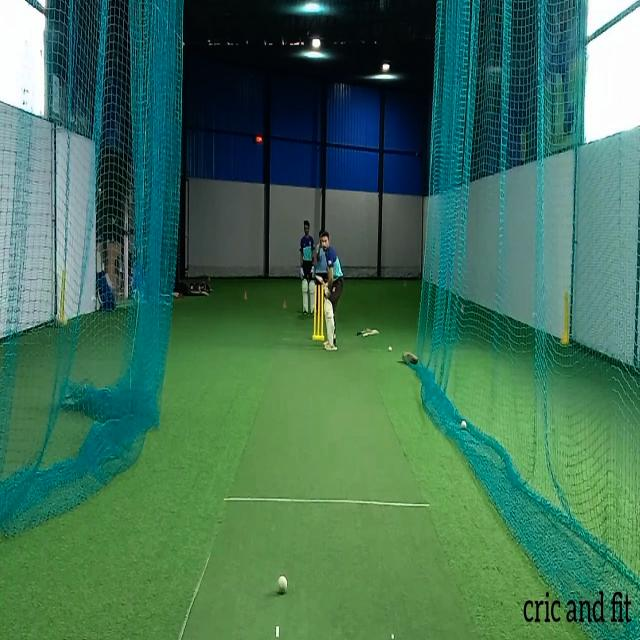batsman: (315, 230, 345, 352)
